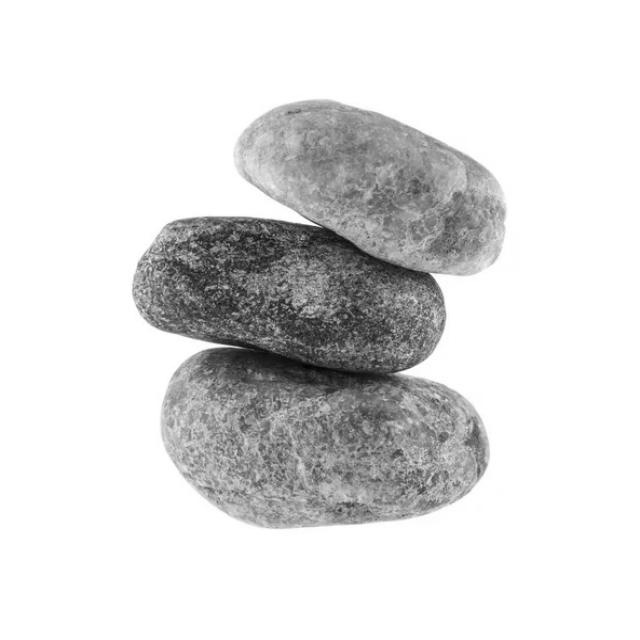Stone: (162, 349, 490, 529), (133, 217, 447, 374), (234, 99, 507, 275)
